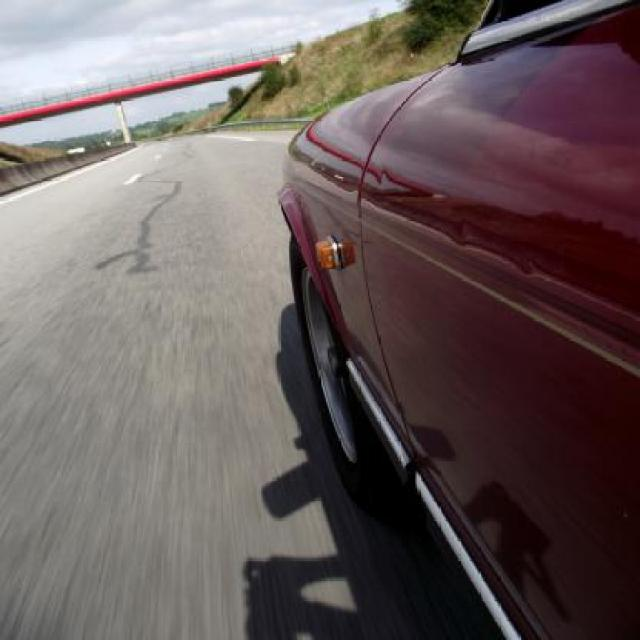truck: (283, 13, 625, 605)
